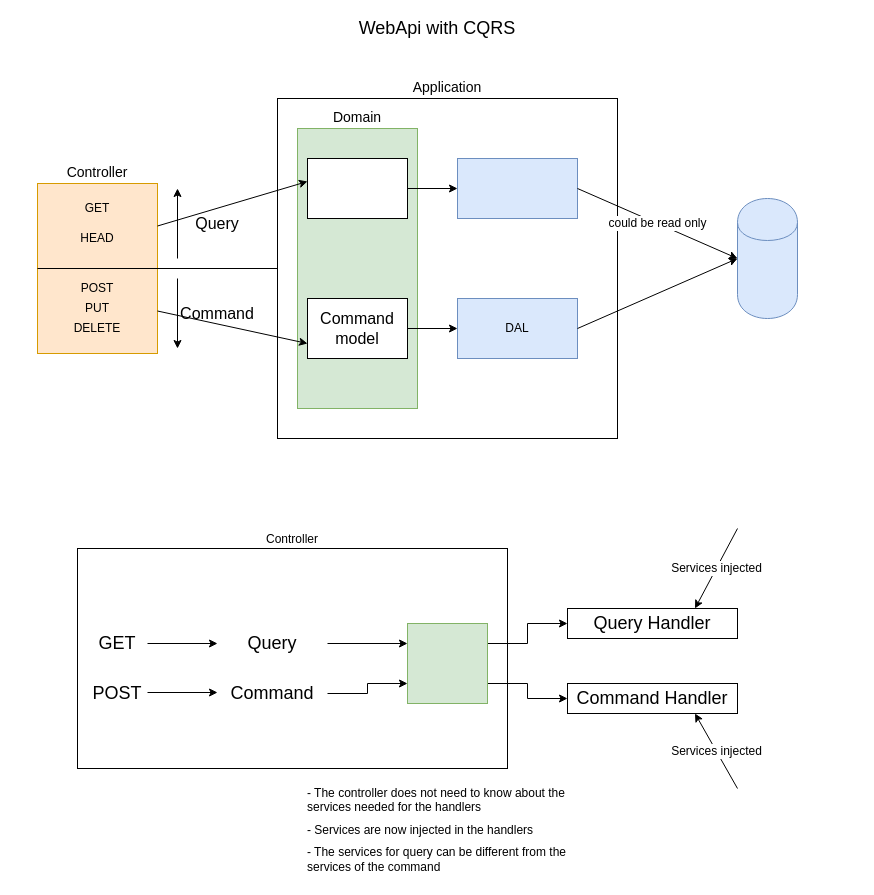
This 874x895 diagram has some shape labels left out. Here are the shapes that lost their labels. From the top down, the centre of each, then its label:
At (x=357, y=188): "Query model".
At (x=517, y=188): "Quering DAL".
At (x=767, y=258): "DB".
At (x=447, y=663): "Mediator".
